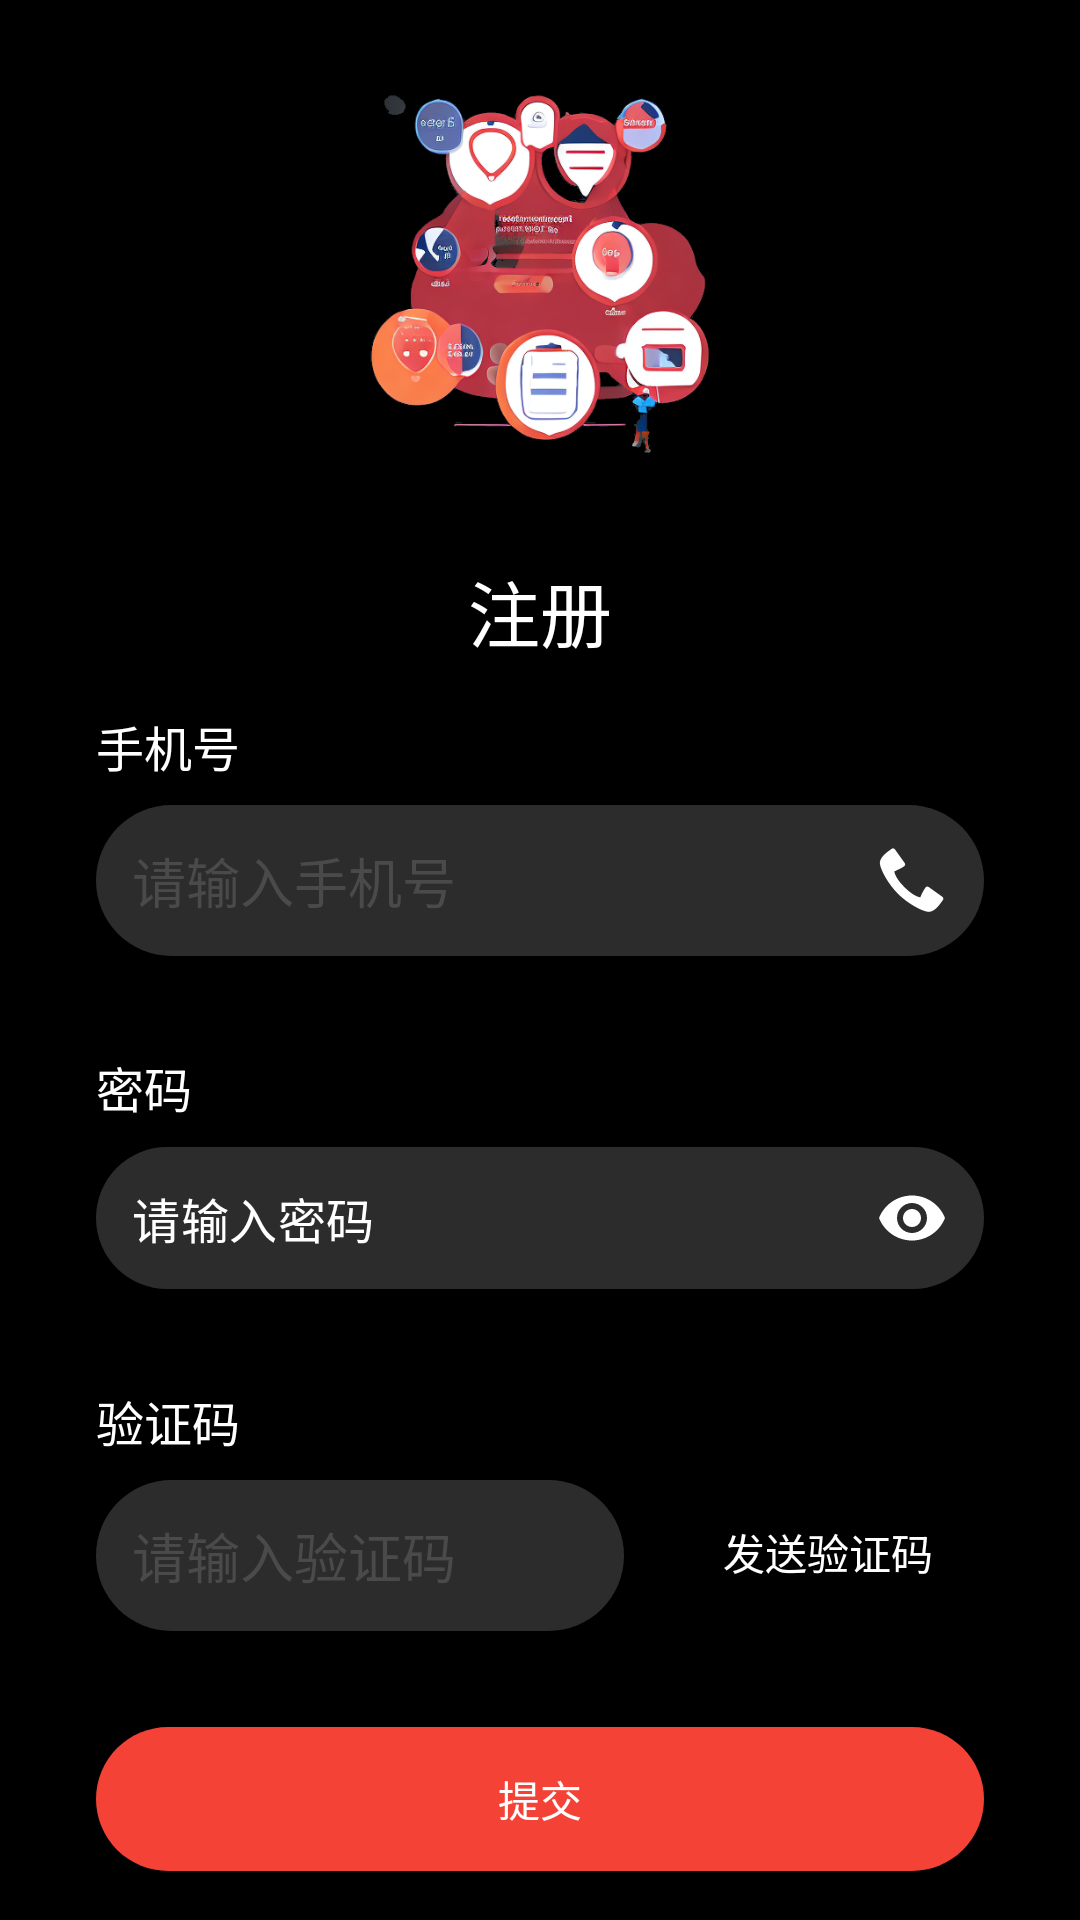

Screen size 1080w x 1920h. Icon name, then its center in pixels as (x,y):
角色图像: (539,274)
